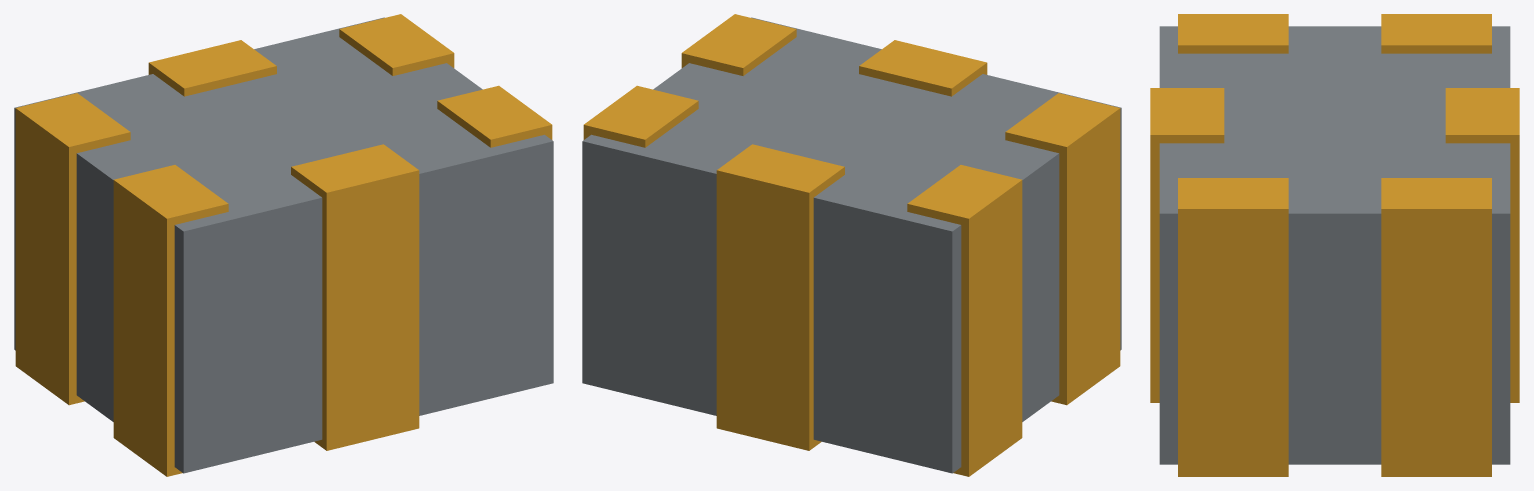
The model's file is WE-CCMF Ceramic Common Mode Filter.gltf.
3 views of the same model, side by side, from view 1: azimuth 30°, elevation 25°; view 2: azimuth 150°, elevation 25°; view 3: azimuth 270°, elevation 25° (orthographic). The views are drawn at different scales.
Visible parts, largest first — view 1: 748020024; view 2: 748020024; view 3: 748020024.
Boxes of the visible parts, <box> form: 748020024: <box>14,14,553,476</box>; 748020024: <box>582,14,1121,476</box>; 748020024: <box>1150,14,1519,476</box>.
Size of the model in its own units: 0.00125 by 0.0008 by 0.001.
